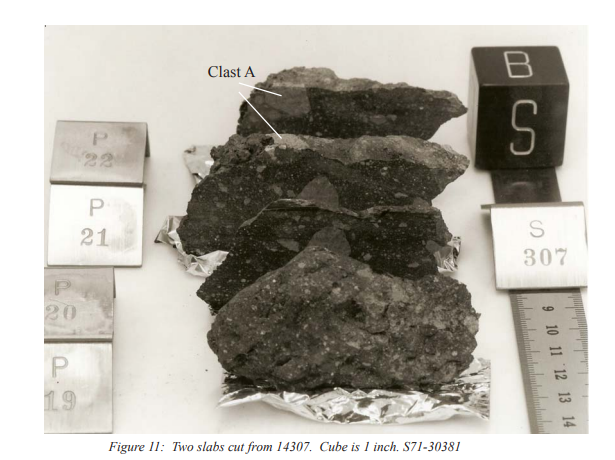Breccia: (225, 49, 473, 397), (183, 262, 488, 394), (171, 163, 471, 278), (202, 86, 466, 187)
